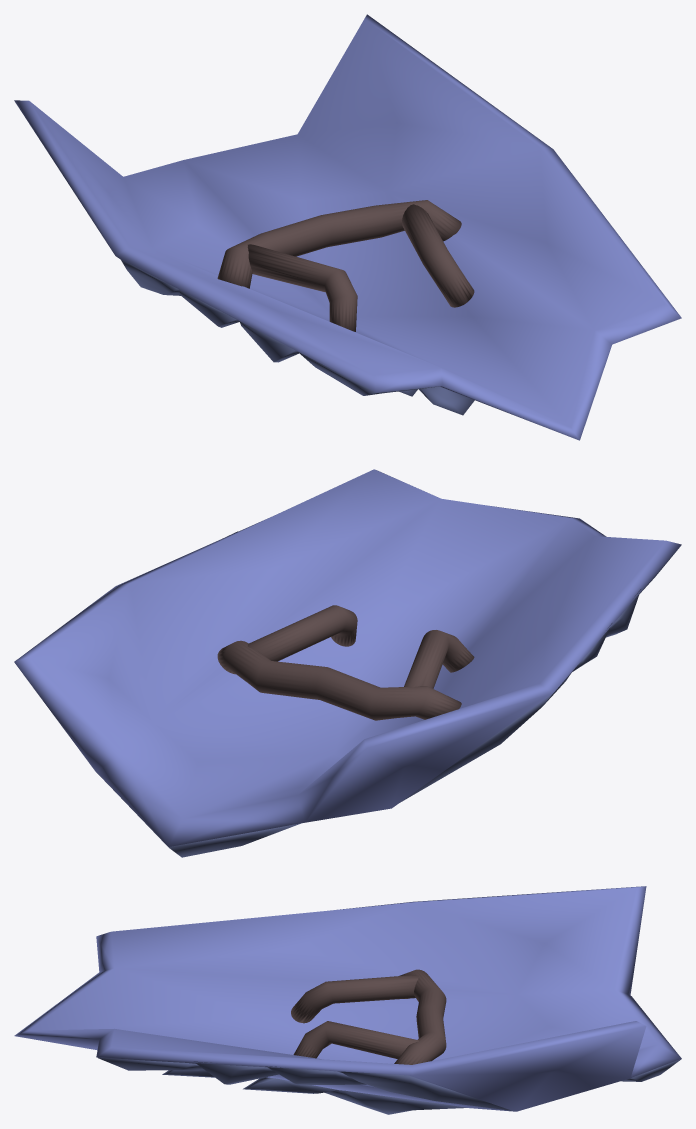
The model's file is shield.fbx.
The picture shows the model from 3 angles, top to bottom: view 1: azimuth 30°, elevation 25°; view 2: azimuth 150°, elevation 25°; view 3: azimuth 270°, elevation 25°; orthographic projection. The views are drawn at different scales.
Visible parts, largest first — view 1: s.0027, s.0048, s.0050, s.0050_Mirrored, s.0030_Mirrored, s.0040_Mirrored, s.0038_Mirrored, s.0037_Mirrored, s.0039_Mirrored; view 2: s.0027, s.0048, s.0050_Mirrored, s.0050, s.0042, s.0038_Mirrored; view 3: s.0027, s.0050, s.0048, s.0050_Mirrored, s.0038, s.0031, s.0039, s.0040, s.0037, s.0032, s.0042.
Part boxes in pixels (x1=…): s.0027: x1=14, y1=14, x2=681, y2=440; s.0048: x1=217, y1=200, x2=461, y2=288; s.0050: x1=247, y1=244, x2=357, y2=331; s.0050_Mirrored: x1=402, y1=204, x2=474, y2=307; s.0030_Mirrored: x1=418, y1=386, x2=474, y2=415; s.0040_Mirrored: x1=239, y1=321, x2=299, y2=362; s.0038_Mirrored: x1=120, y1=259, x2=180, y2=295; s.0037_Mirrored: x1=299, y1=352, x2=439, y2=395; s.0039_Mirrored: x1=179, y1=290, x2=239, y2=327; s.0027: x1=14, y1=469, x2=681, y2=846; s.0048: x1=217, y1=640, x2=461, y2=720; s.0050_Mirrored: x1=247, y1=605, x2=357, y2=661; s.0050: x1=404, y1=630, x2=474, y2=688; s.0042: x1=97, y1=773, x2=301, y2=857; s.0038_Mirrored: x1=400, y1=671, x2=572, y2=802; s.0027: x1=14, y1=886, x2=681, y2=1111; s.0050: x1=291, y1=975, x2=418, y2=1023; s.0048: x1=394, y1=969, x2=446, y2=1064; s.0050_Mirrored: x1=293, y1=1021, x2=418, y2=1058; s.0038: x1=340, y1=1071, x2=511, y2=1110; s.0031: x1=325, y1=1090, x2=467, y2=1114; s.0039: x1=265, y1=1066, x2=366, y2=1085; s.0040: x1=194, y1=1061, x2=278, y2=1084; s.0037: x1=98, y1=1057, x2=203, y2=1070; s.0032: x1=243, y1=1077, x2=338, y2=1093; s.0042: x1=621, y1=996, x2=681, y2=1081.
Size of the model in its own units: 0.3074 by 0.4998 by 0.1274.
